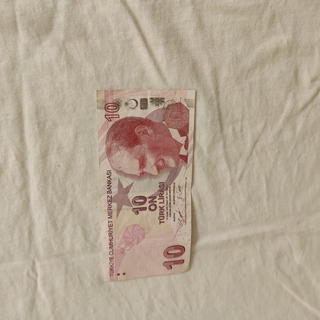10TLFront: (95, 87, 196, 284)
